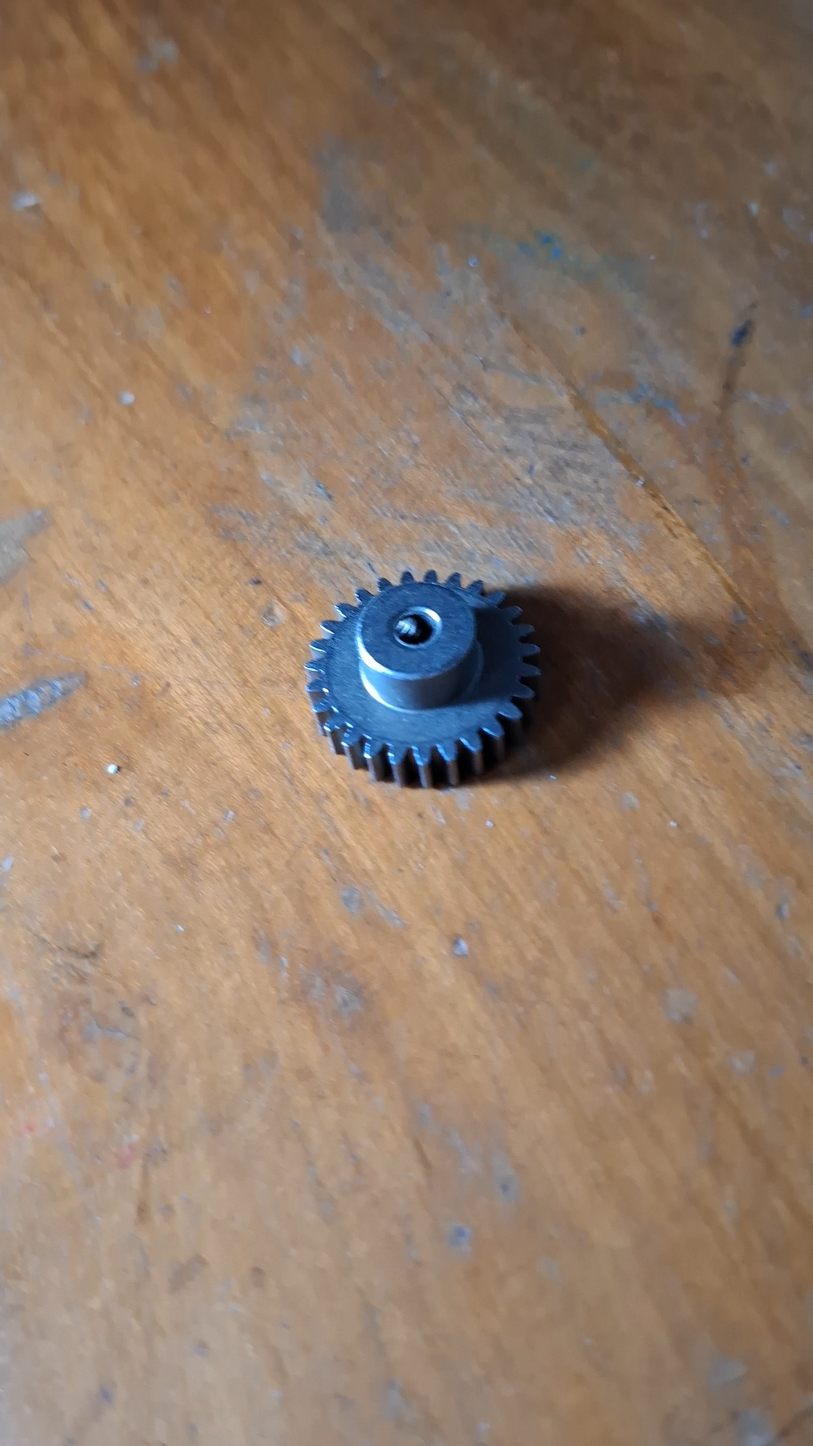spur gear: (306, 571, 539, 786)
